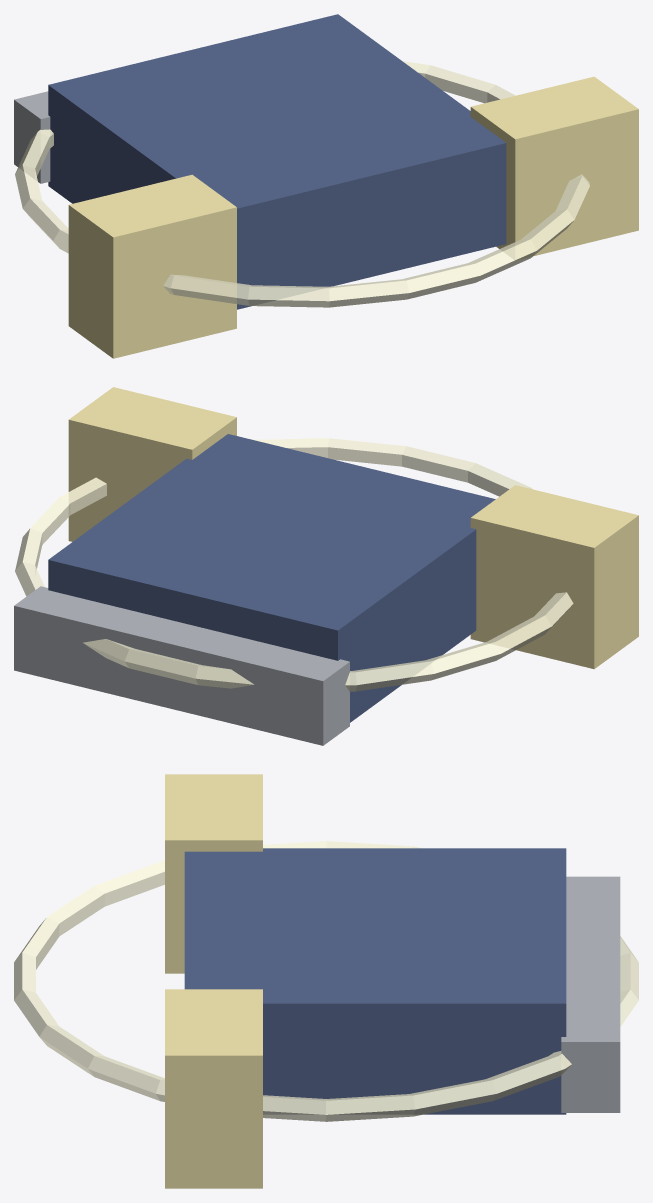
Rendered from 04_magic_armor_upgrade.glb.
3 views of the same model, one above another, from view 1: azimuth 30°, elevation 25°; view 2: azimuth 150°, elevation 25°; view 3: azimuth 270°, elevation 25° (orthographic). The views are drawn at different scales.
Visible parts, largest first — view 1: chest_plate, pauldron_l, pauldron_r, warding_aura, waist_guard; view 2: chest_plate, waist_guard, pauldron_l, warding_aura, pauldron_r; view 3: chest_plate, pauldron_r, warding_aura, waist_guard, pauldron_l.
Part boxes in pixels (x1,y1,x2,y2): chest_plate: (48, 14, 506, 309); pauldron_l: (68, 174, 236, 358); pauldron_r: (470, 76, 638, 259); warding_aura: (15, 61, 589, 307); waist_guard: (14, 91, 50, 183); chest_plate: (48, 434, 495, 722); waist_guard: (14, 586, 349, 745); pauldron_l: (470, 485, 638, 669); warding_aura: (15, 438, 573, 691); pauldron_r: (68, 387, 236, 541); chest_plate: (184, 848, 566, 1114); pauldron_r: (165, 989, 262, 1188); warding_aura: (14, 841, 638, 1121); waist_guard: (561, 876, 620, 1112); pauldron_l: (165, 774, 262, 973).
Bounding box in the file's own units: 1.36 × 0.38 × 1.28.
